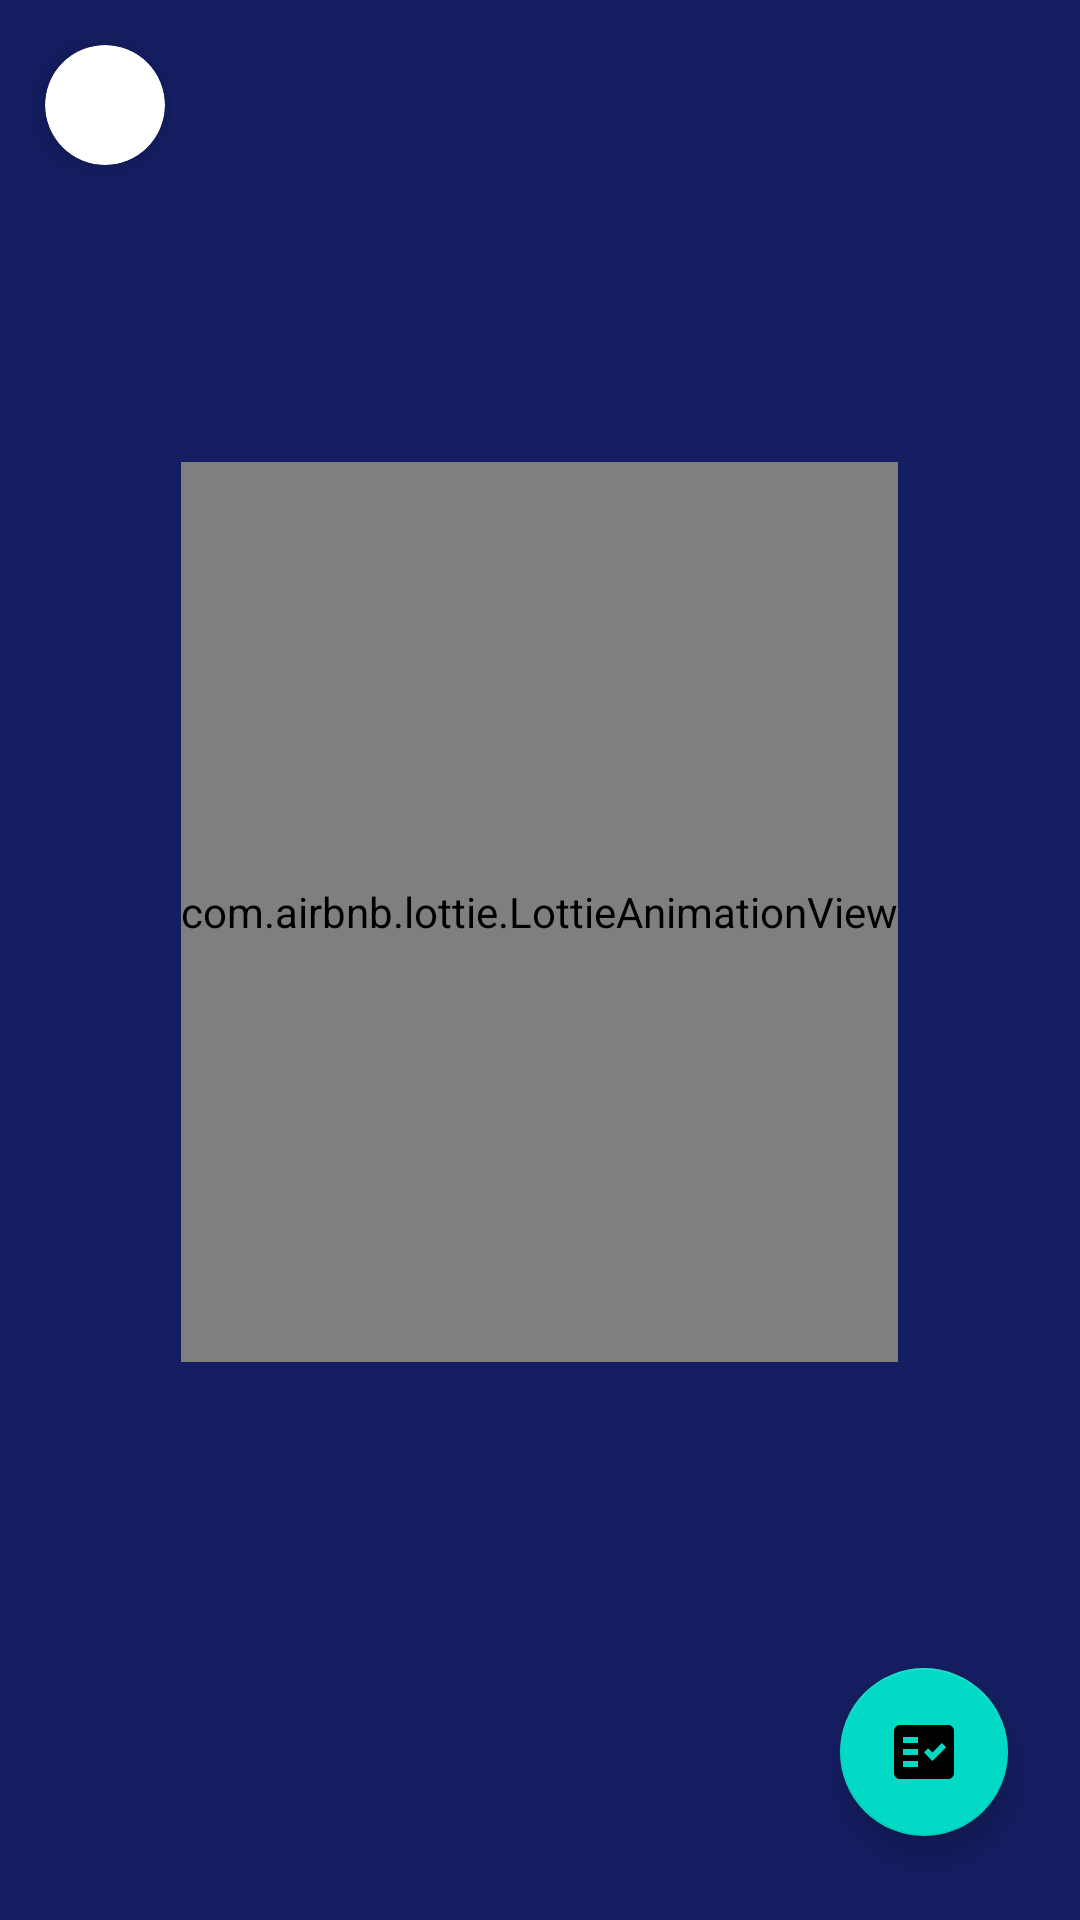

Named icons in this screenshot (1080px×1920px) and their centers, point (x, y):
todo: point (924, 1752)
